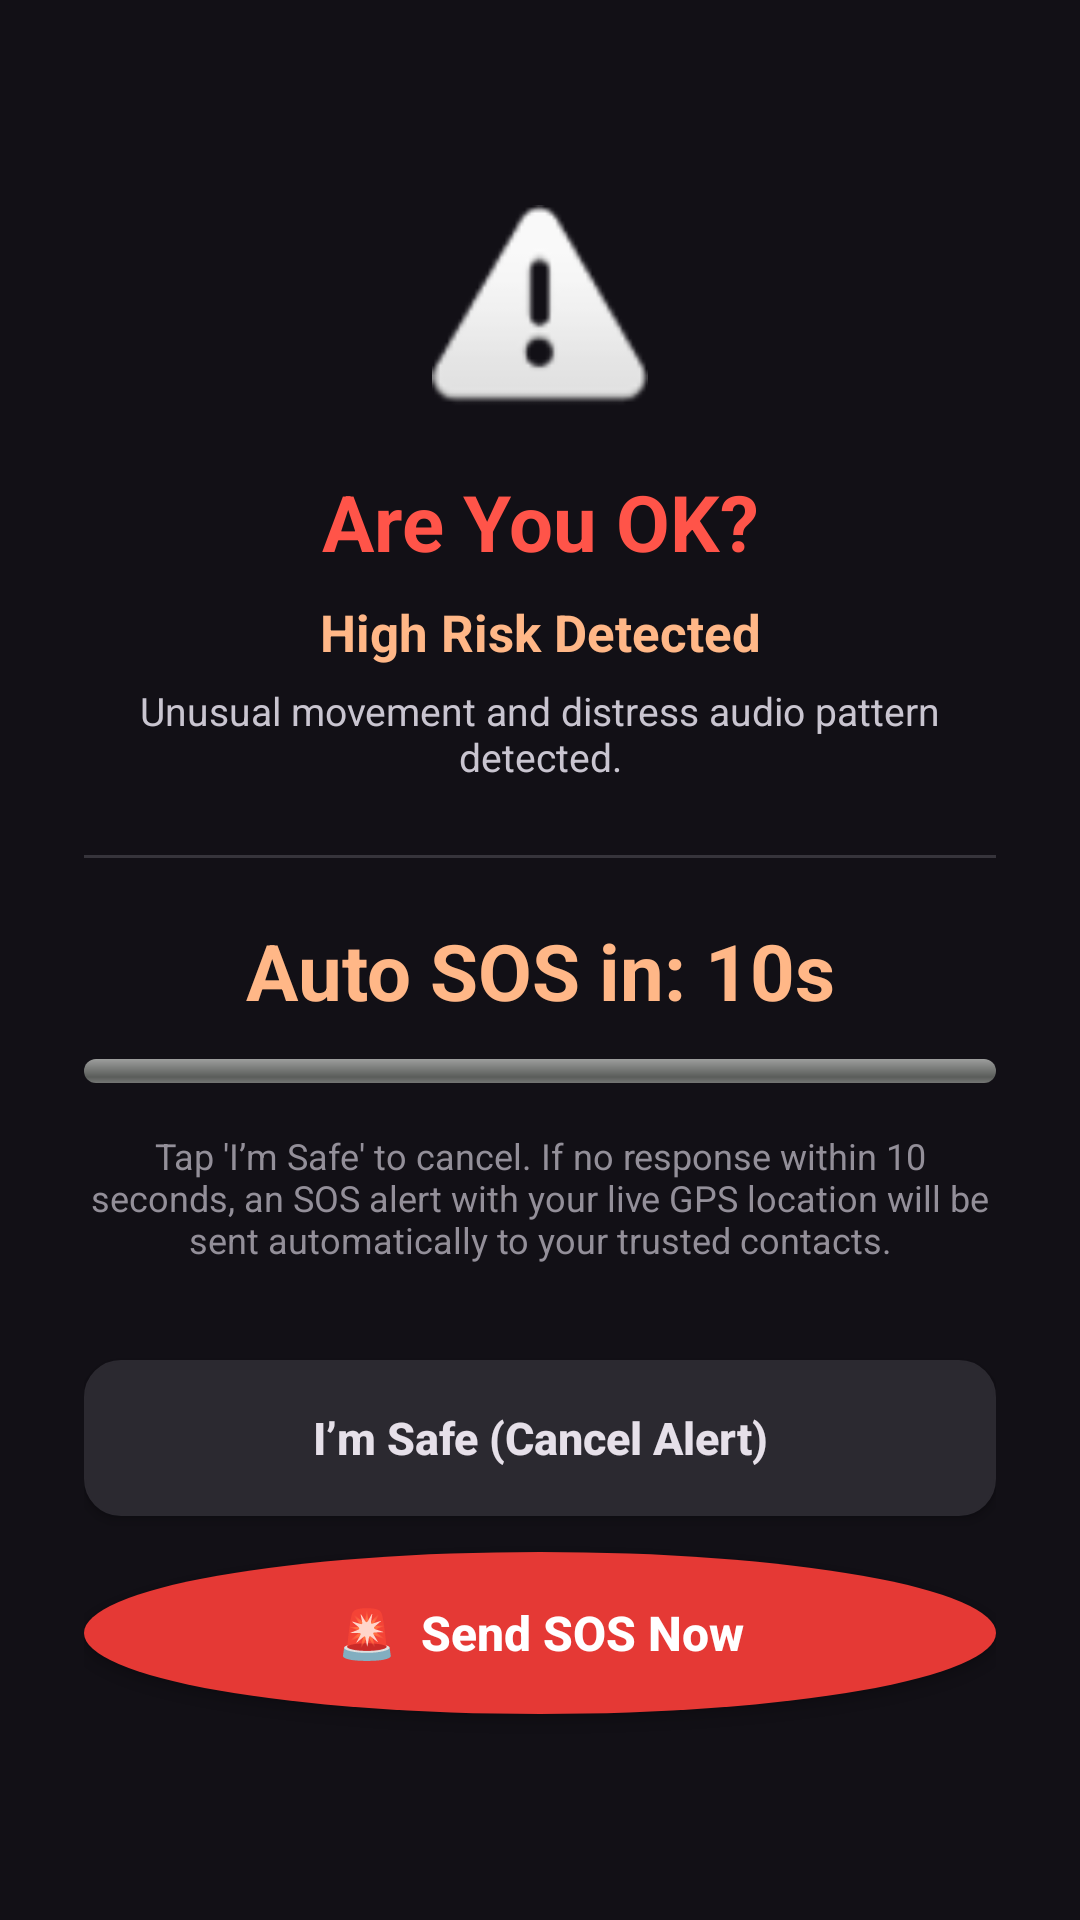

Where to tap for icons on this 1080px x 1920px app screen, as point (x, y):
Emergency Warning: point (540, 303)
